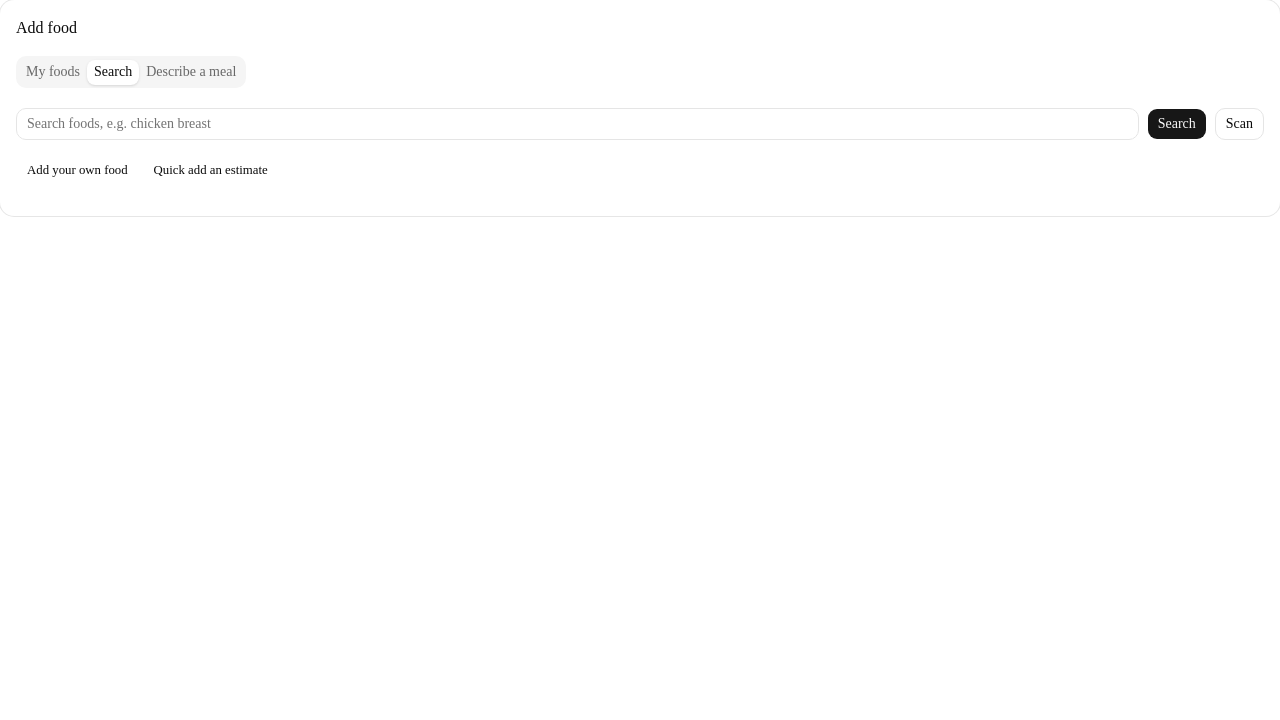
Test: AddFood — a recognised dish (§13A–§13E) › says what it understood, asks which kind first, and searches again with the answer
Type "warak 3enab" into the field labelled "Search foods" at (577,124), box [16, 108, 1139, 140]
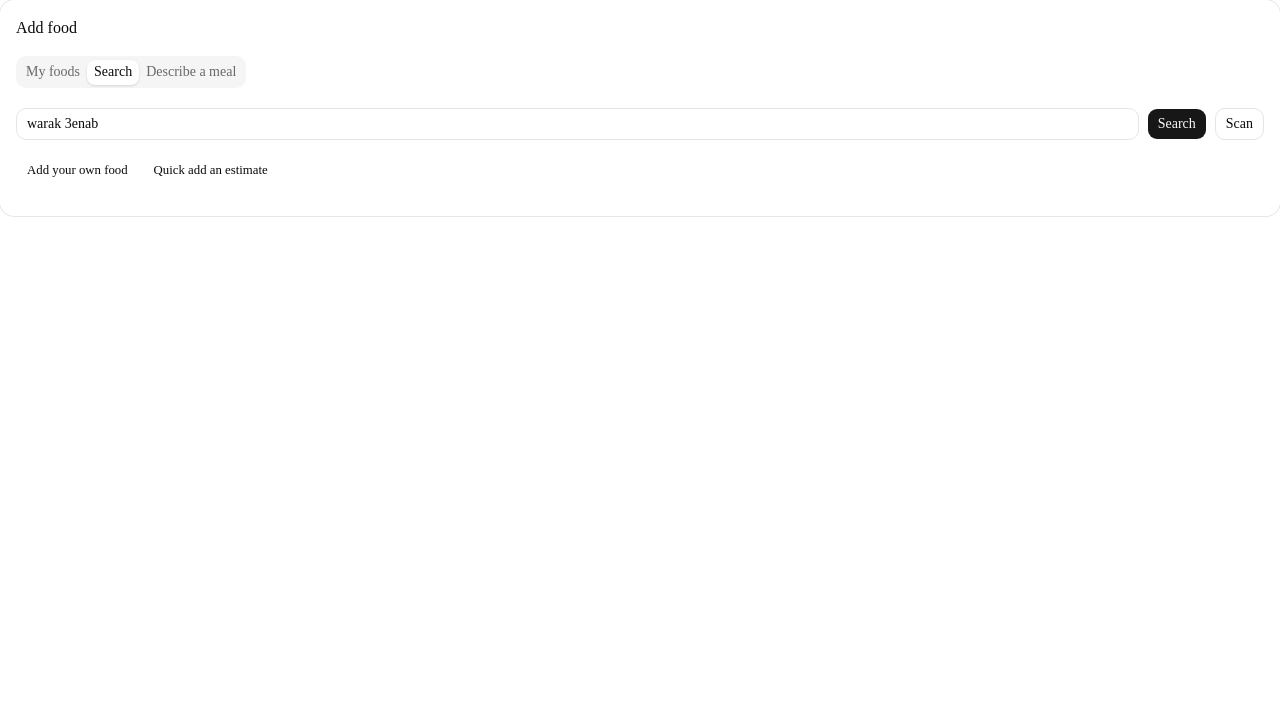
Click the button "Search" at (1177,124), box [1147, 108, 1207, 140]
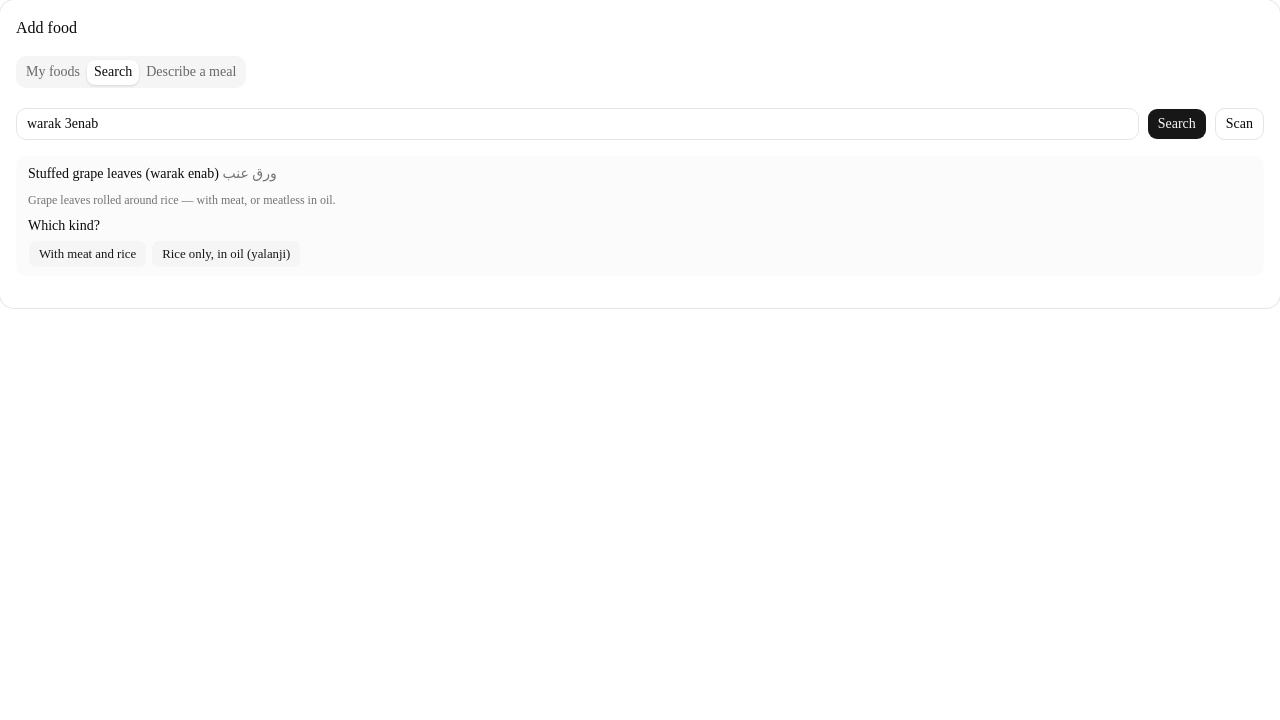
Check: the text "How do you want to add it" is not shown
Check: the text "ورق عنب" is shown, box [222, 166, 277, 181]
Check: the text "Which kind?" is shown, box [28, 218, 100, 233]
Click the button "With meat and rice" at (88,254), box [28, 240, 147, 268]
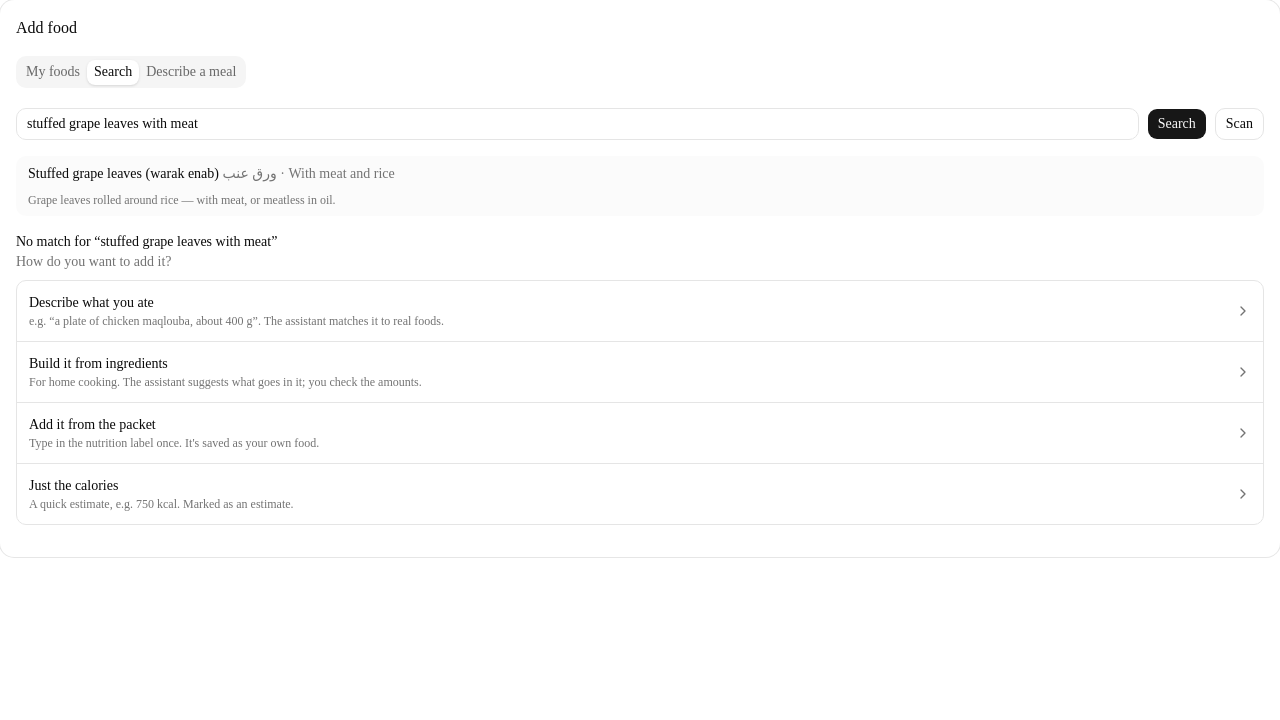
Check: the text "How do you want to add it?" is shown, box [16, 254, 172, 269]
Check: the text "Which kind?" is gone
